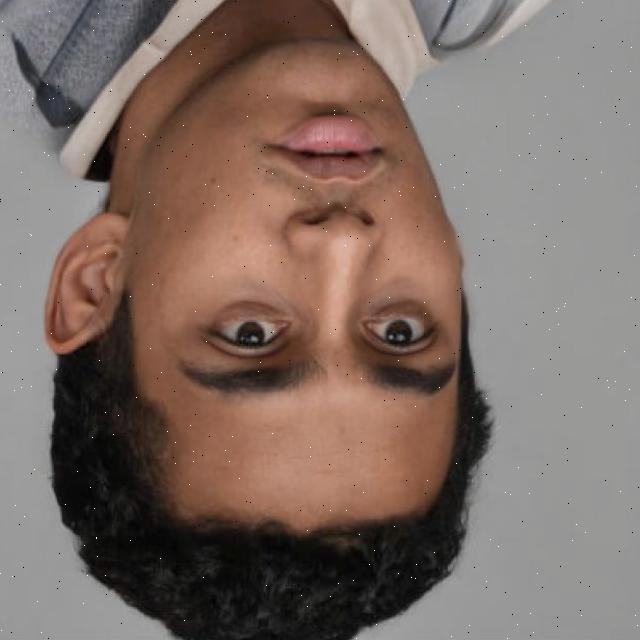puffy_eyes: (212, 295, 283, 314), (376, 299, 431, 316)
